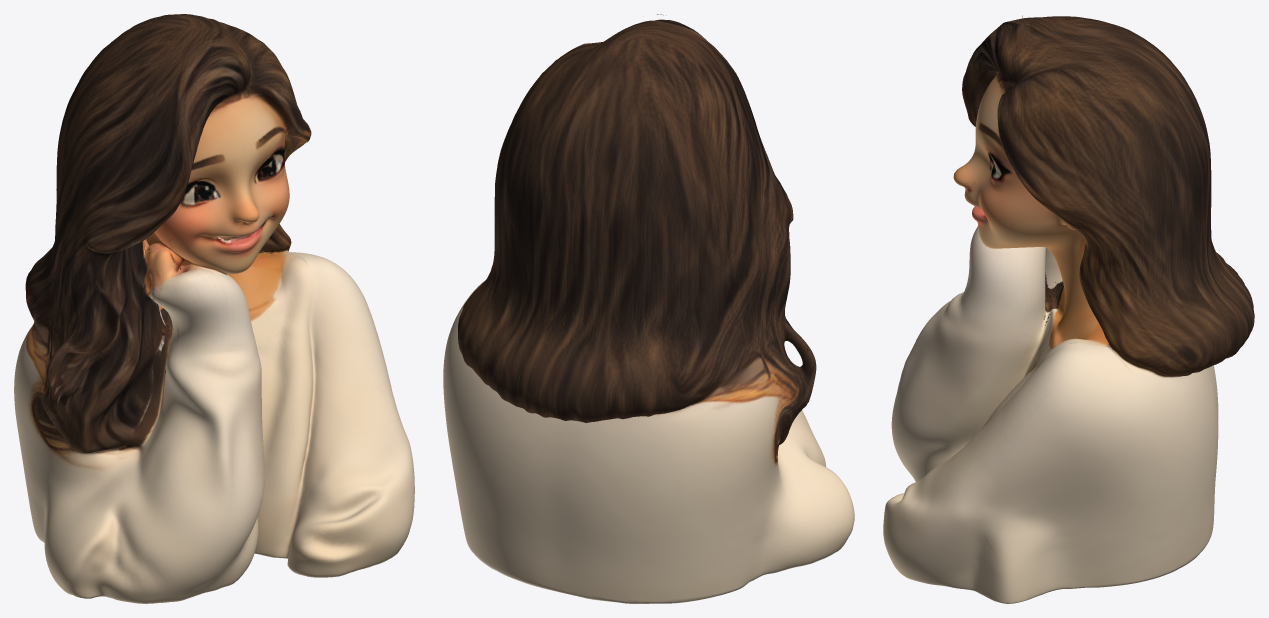
Rendered from ref-rodin.glb.
The picture shows the model from 3 angles, left to right: view 1: azimuth 30°, elevation 25°; view 2: azimuth 150°, elevation 25°; view 3: azimuth 270°, elevation 25°; orthographic projection.
Visible parts, largest first — view 1: model; view 2: model; view 3: model.
Boxes of the visible parts, <box> form: model: <box>14,14,414,603</box>; model: <box>443,14,854,603</box>; model: <box>883,15,1254,603</box>.
Bounding box in the file's own units: 1.37 × 1.9 × 1.28.
Materials: 1 (1 with a texture image).
